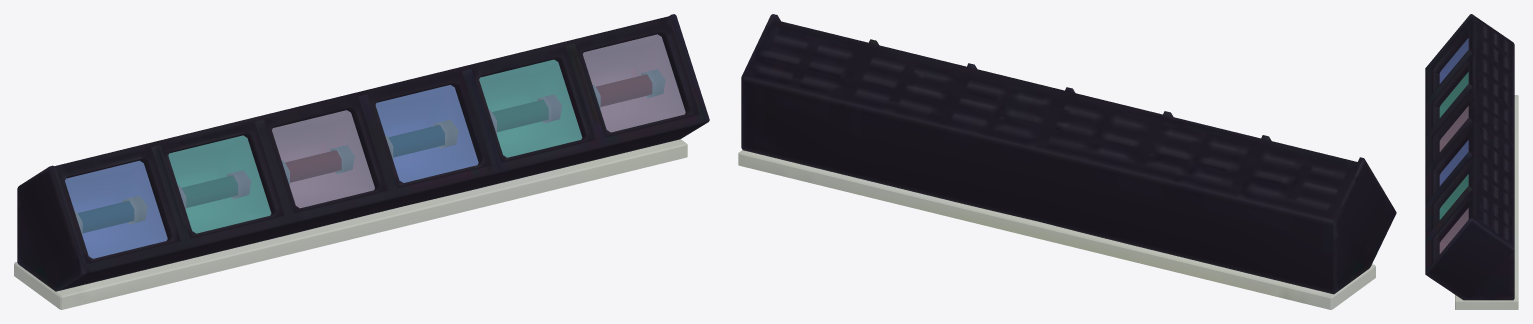
The picture shows the model from 3 angles, left to right: view 1: azimuth 30°, elevation 25°; view 2: azimuth 150°, elevation 25°; view 3: azimuth 270°, elevation 25°; orthographic projection. The views are drawn at different scales.
Size of the model in its own units: 20 by 4.09 by 3.84.
2 materials, 1 textured.
